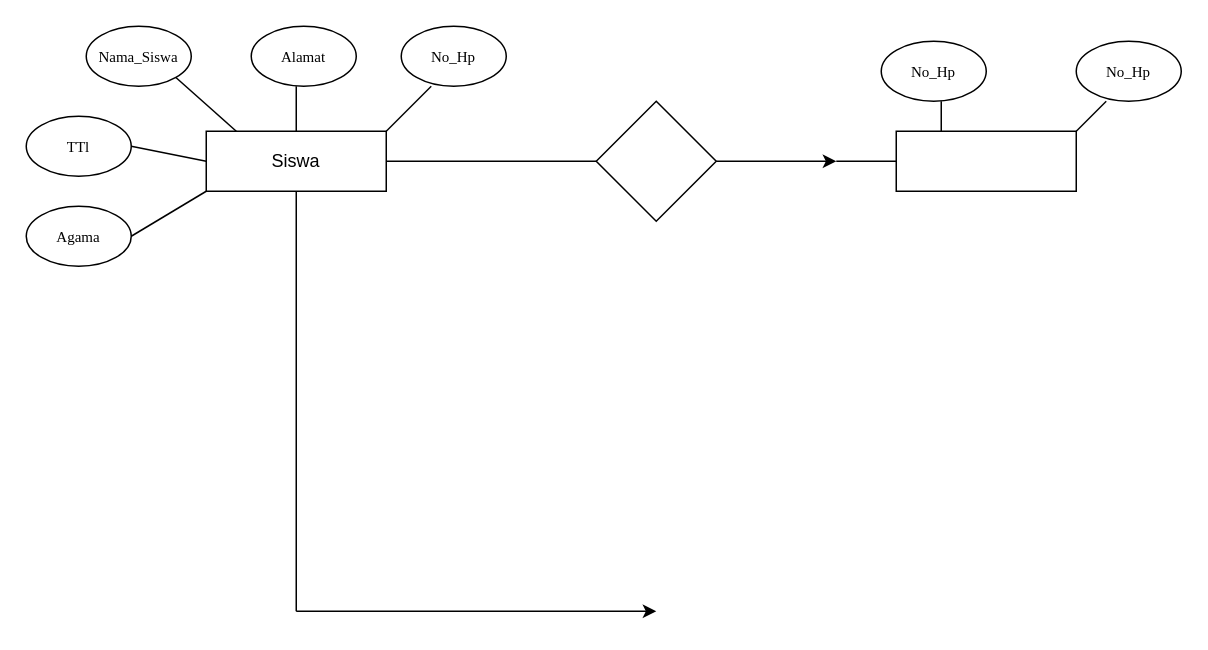
The diagram is 1208 pixels wide and 650 high, and some of its shapes have lost their labels. The shapes that lost their labels are listed below. From the top down, each one's centre as x and y in pixels, then its label:
the point at 655,160: Menentukan
the point at 985,160: Pendaftaran
